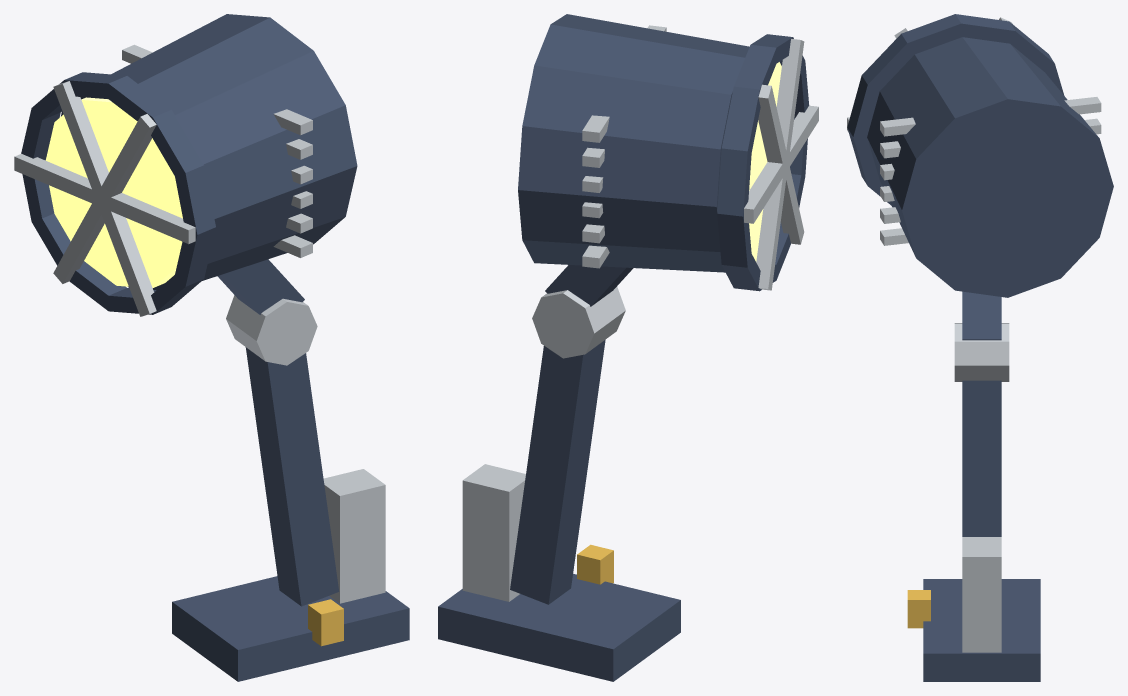
File: work_lamp.glb
3 renders of one model, left to right at view 1: azimuth 30°, elevation 25°; view 2: azimuth 150°, elevation 25°; view 3: azimuth 270°, elevation 25°, orthographic. The views are drawn at different scales.
Visible parts, largest first — view 1: DL020_WorkLamp_graphite_navy, DL020_WorkLamp_titanium, DL020_WorkLamp_emissive_amber, DL020_WorkLamp_amber_accent; view 2: DL020_WorkLamp_graphite_navy, DL020_WorkLamp_titanium, DL020_WorkLamp_emissive_amber, DL020_WorkLamp_amber_accent; view 3: DL020_WorkLamp_graphite_navy, DL020_WorkLamp_titanium, DL020_WorkLamp_amber_accent.
Part boxes in pixels (<box>): DL020_WorkLamp_graphite_navy: <box>21,14,409,681</box>; DL020_WorkLamp_titanium: <box>14,44,385,603</box>; DL020_WorkLamp_emissive_amber: <box>45,97,182,287</box>; DL020_WorkLamp_amber_accent: <box>308,599,343,646</box>; DL020_WorkLamp_graphite_navy: <box>438,14,809,681</box>; DL020_WorkLamp_titanium: <box>462,25,818,601</box>; DL020_WorkLamp_emissive_amber: <box>749,62,781,261</box>; DL020_WorkLamp_amber_accent: <box>577,544,613,584</box>; DL020_WorkLamp_graphite_navy: <box>847,14,1113,681</box>; DL020_WorkLamp_titanium: <box>847,17,1101,652</box>; DL020_WorkLamp_amber_accent: <box>907,590,930,628</box>.
Bounding box in the file's own units: 0.8368 × 1.54 × 0.6813.
